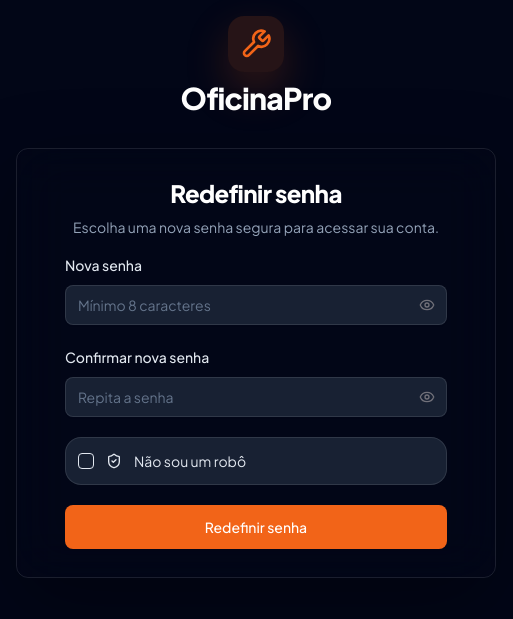
Test: ResetPasswordPage › valida confirmacao de senha antes de enviar redefinicao
Type "Senha123" into the password field labelled "Nova senha".
click(256, 305); type("Senha123")  # box x1=65 y1=285 x2=447 y2=325
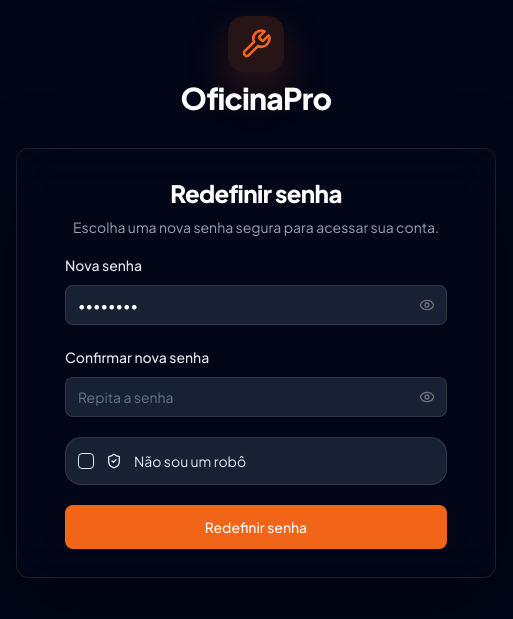
Type "Outra123" into the password field labelled "Confirmar nova senha".
click(256, 397); type("Outra123")  # box x1=65 y1=377 x2=447 y2=417
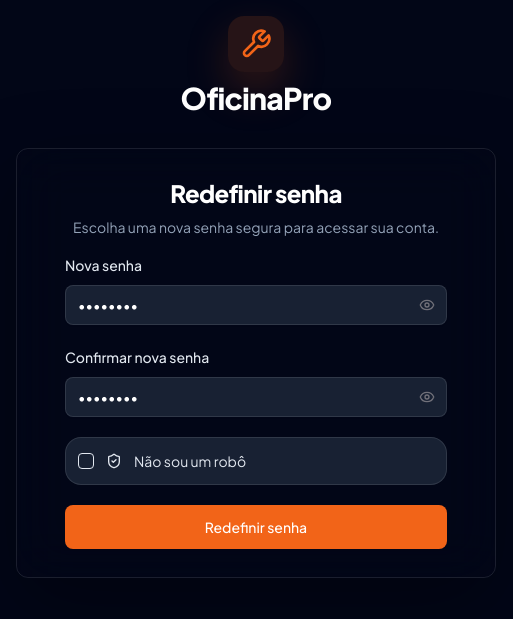
Click the checkbox labelled "Não sou um robô".
click(190, 461)  # box x1=65 y1=437 x2=447 y2=485
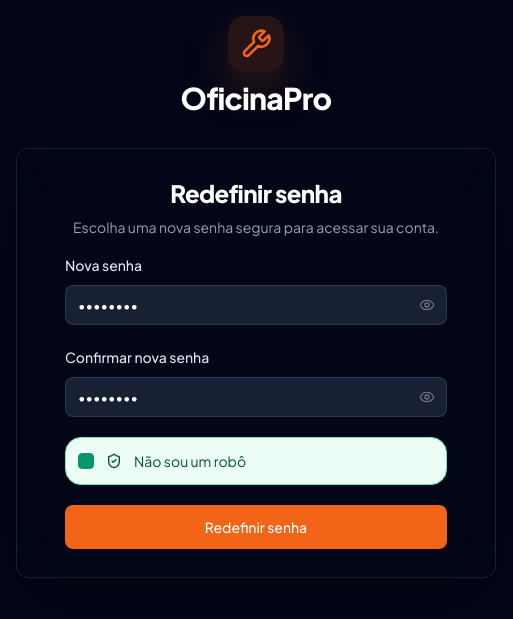
Click the button "Redefinir senha".
click(256, 527)  # box x1=65 y1=505 x2=447 y2=549
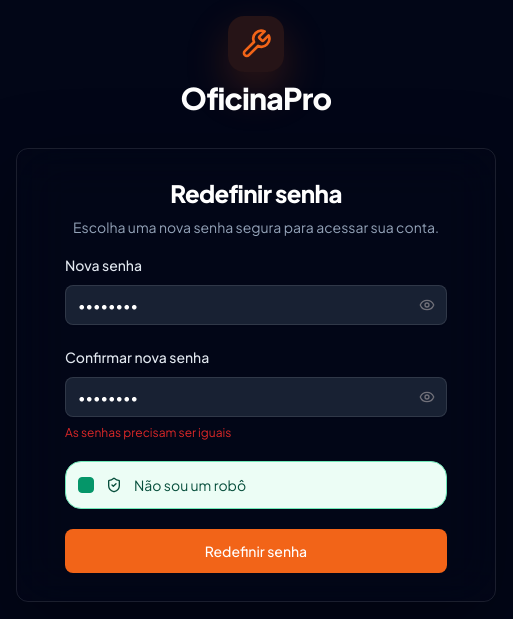
Check: the text "As senhas precisam ser iguais" is shown, box x1=65 y1=425 x2=231 y2=440
